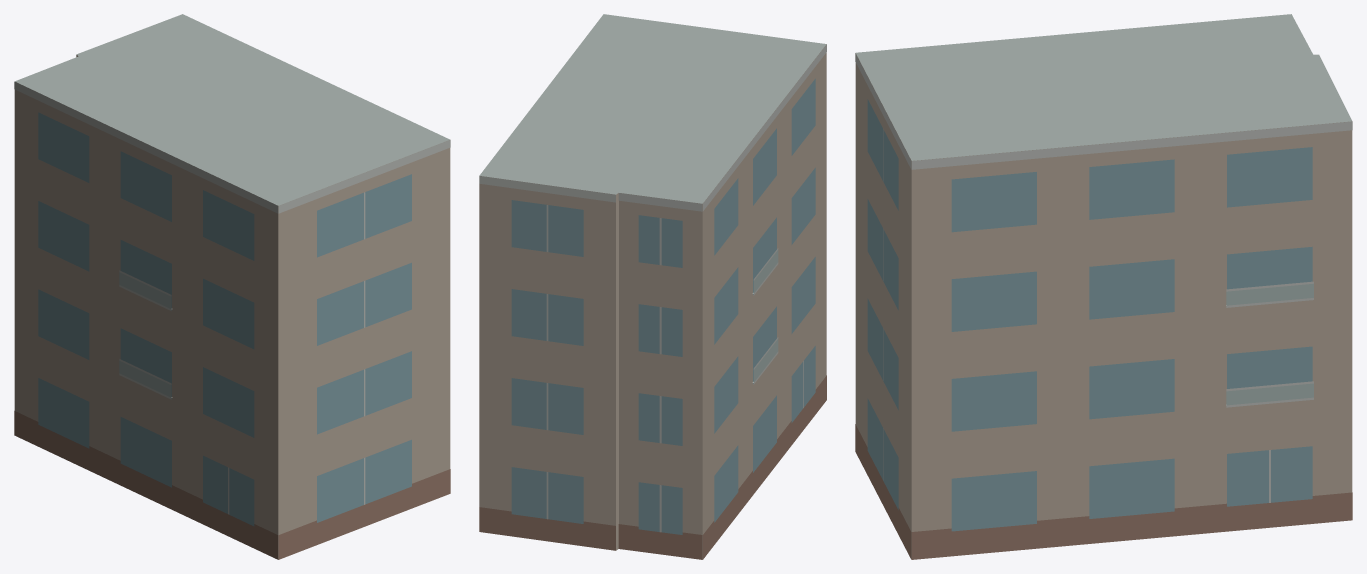
The model's file is survey-upis-32829384.glb.
3 renders of one model, left to right at view 1: azimuth 30°, elevation 25°; view 2: azimuth 150°, elevation 25°; view 3: azimuth 270°, elevation 25°, orthographic. The views are drawn at different scales.
Visible parts, largest first — view 1: survey-upis-32829384.tmp; view 2: survey-upis-32829384.tmp; view 3: survey-upis-32829384.tmp.
Boxes of the visible parts, box(x1,y1,x2,y2) form: survey-upis-32829384.tmp: box(14, 14, 450, 559); survey-upis-32829384.tmp: box(479, 14, 826, 559); survey-upis-32829384.tmp: box(855, 14, 1352, 559).
Size of the model in its own units: 8.62 by 10.9 by 12.32.
